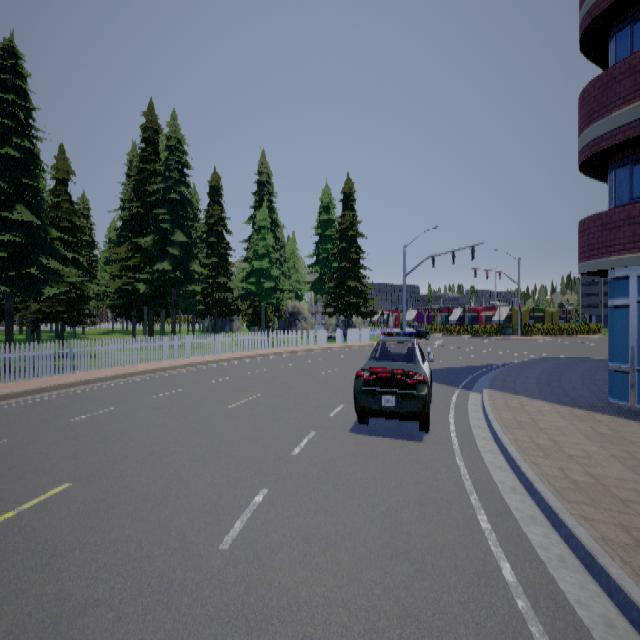red_light: (518, 302, 522, 311), (498, 271, 502, 280), (486, 269, 489, 279), (474, 268, 477, 278)
vehicle: (352, 322, 434, 431)
